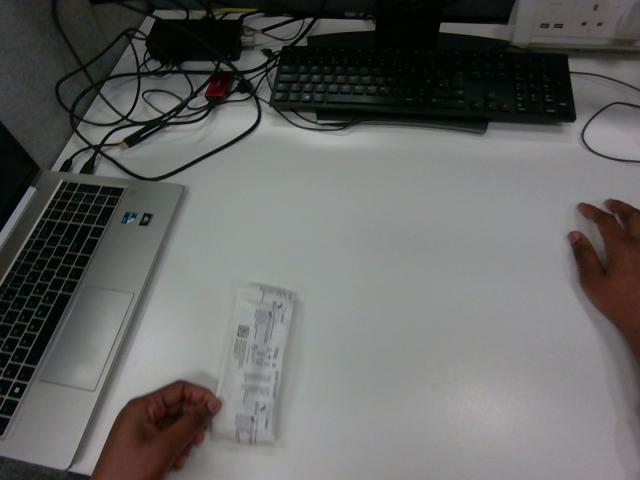syringe: (214, 285, 294, 443)
